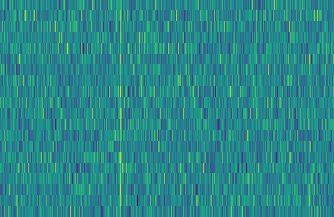signal: (114, 0, 123, 217)
